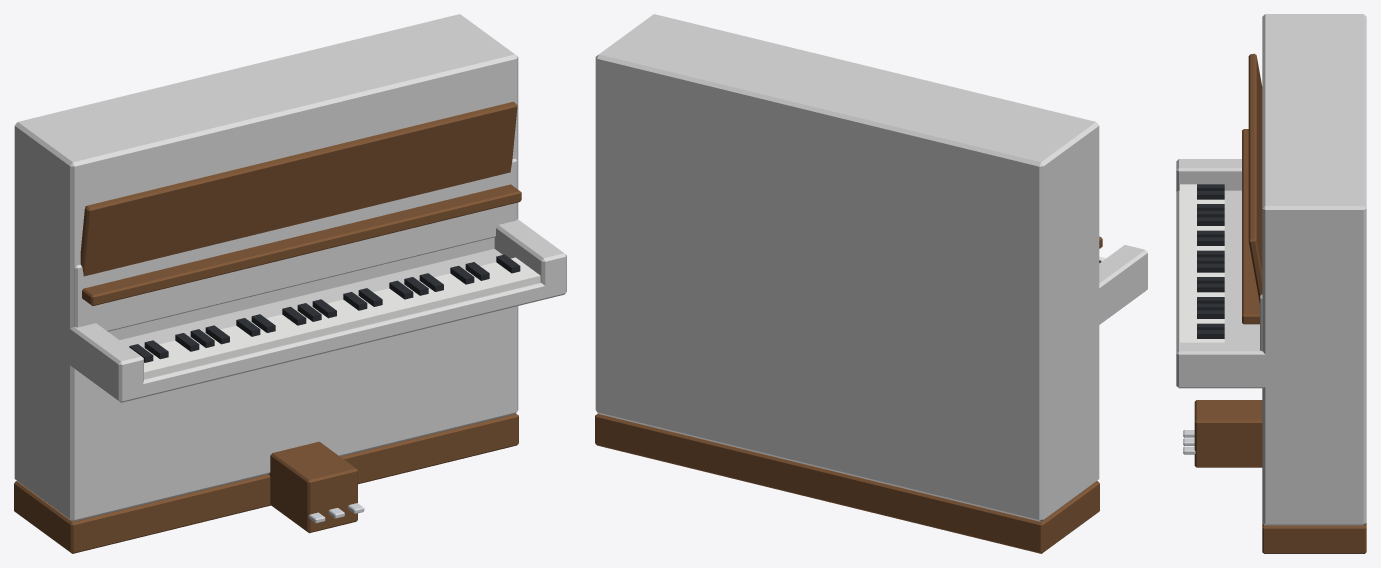
Rendered from piano-upright.glb.
3 renders of one model, left to right at view 1: azimuth 30°, elevation 25°; view 2: azimuth 150°, elevation 25°; view 3: azimuth 270°, elevation 25°, orthographic. The views are drawn at different scales.
Visible parts, largest first — view 1: piano-upright.tint, piano-upright.woodDark, piano-upright.ceramic, piano-upright.graphite; view 2: piano-upright.tint, piano-upright.woodDark; view 3: piano-upright.tint, piano-upright.woodDark, piano-upright.graphite, piano-upright.ceramic, piano-upright.chrome.
Part boxes in pixels (<box>): piano-upright.tint: <box>14,14,566,521</box>; piano-upright.woodDark: <box>14,101,521,553</box>; piano-upright.ceramic: <box>144,257,540,379</box>; piano-upright.graphite: <box>129,254,520,362</box>; piano-upright.tint: <box>595,14,1147,521</box>; piano-upright.woodDark: <box>595,236,1102,553</box>; piano-upright.tint: <box>1176,14,1366,525</box>; piano-upright.woodDark: <box>1194,53,1366,553</box>; piano-upright.graphite: <box>1197,184,1224,338</box>; piano-upright.ceramic: <box>1180,184,1224,342</box>; piano-upright.chrome: <box>1183,430,1195,454</box>.
Bounding box in the file's own units: 1.5 × 1.25 × 0.62.
